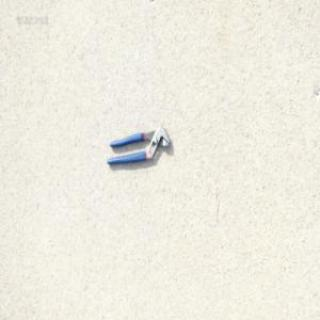Pliertrack_idkeyframe: (105, 124, 171, 166)
